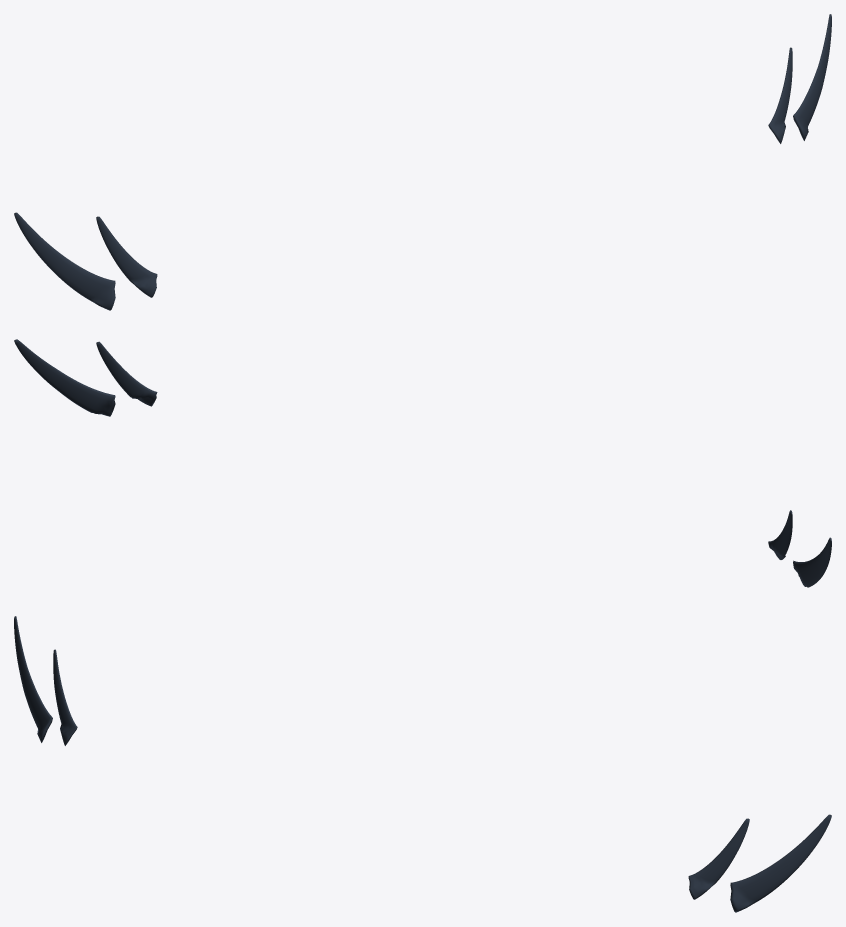
The model's file is Feminine-Feminine-hooded-lashes-c429f391.glb.
The picture shows the model from 3 angles, top to bottom: view 1: azimuth 30°, elevation 25°; view 2: azimuth 150°, elevation 25°; view 3: azimuth 330°, elevation 25°; orthographic projection.
Visible parts, largest first — view 1: 226 eyelashes / Lashes / charcoal234; view 2: 226 eyelashes / Lashes / charcoal234; view 3: 226 eyelashes / Lashes / charcoal234.
Part boxes in pixels (x1=…): 226 eyelashes / Lashes / charcoal234: x1=14, y1=14, x2=831, y2=310; 226 eyelashes / Lashes / charcoal234: x1=14, y1=339, x2=831, y2=587; 226 eyelashes / Lashes / charcoal234: x1=14, y1=616, x2=831, y2=912.
Size of the model in its own units: 0.5156 by 0.0529 by 0.0489.
